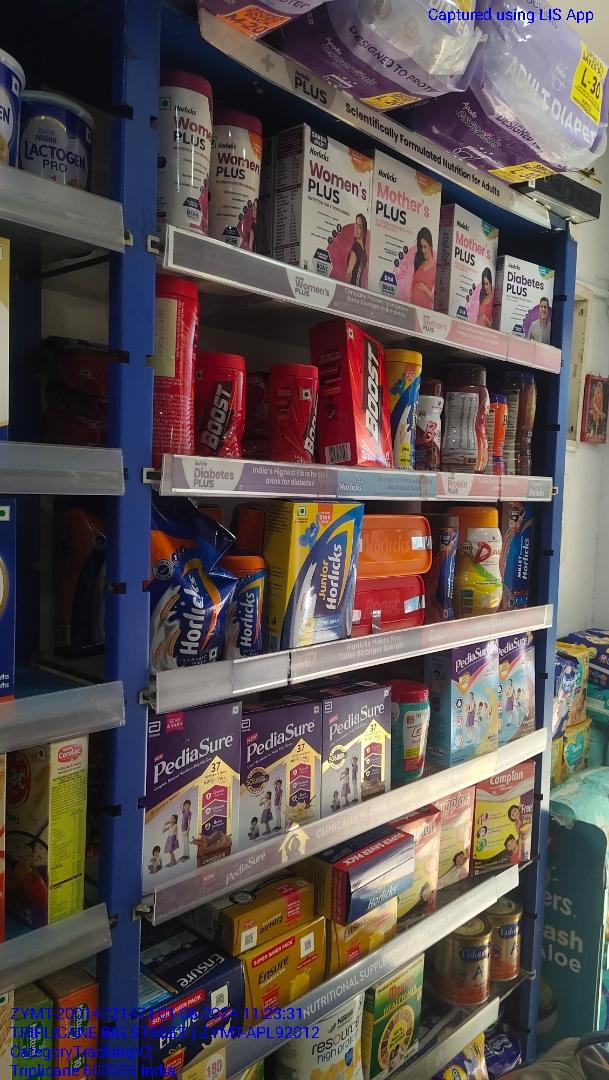HORLICK_CLASSIC_MALT_500_G_JAR: (222, 554, 265, 661)
PEDIASURE_CHOCOLATE_500_G_PACK: (322, 685, 392, 821)
PEDIASURE_VANILLA_500_G_PACK: (240, 697, 318, 848)
